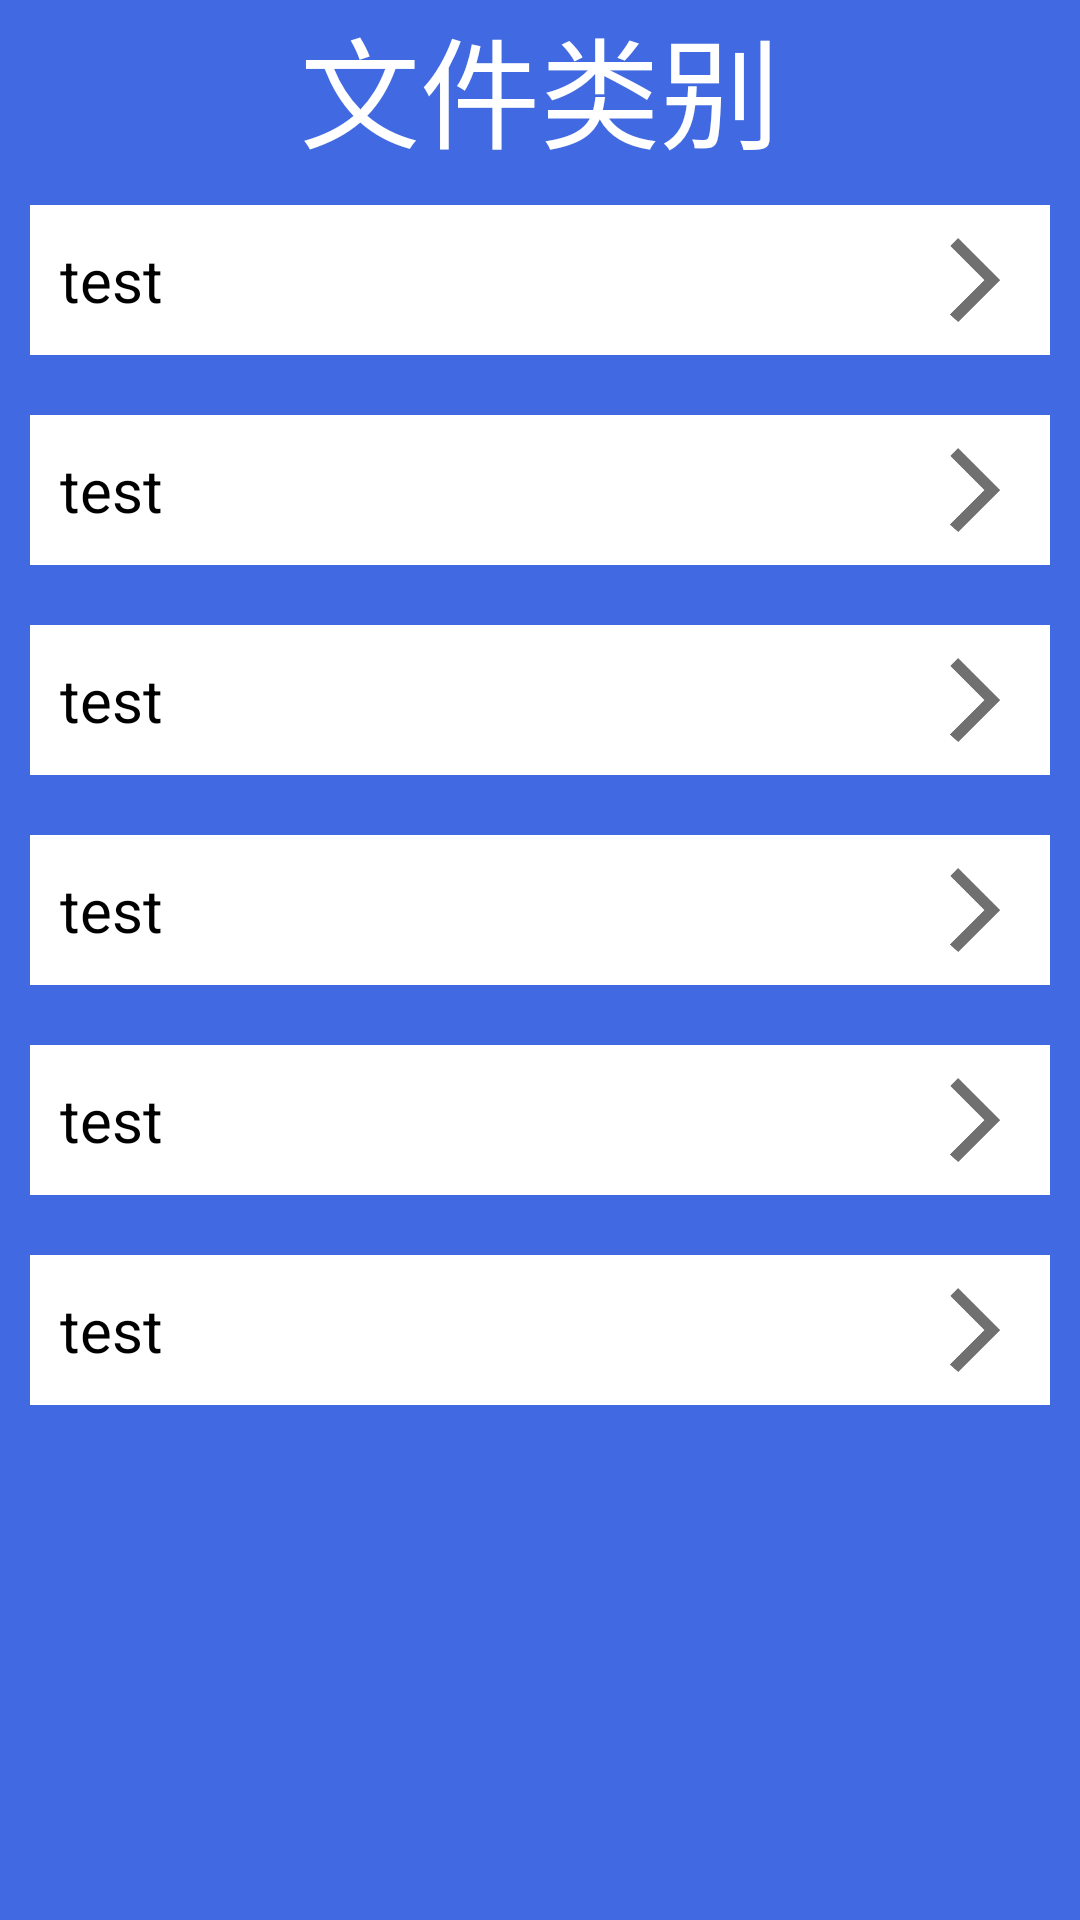

Icons on this 1080×1920 Android screen, each with its box as region(x1, y1, x2, y2):
arrow right: region(950, 238, 1000, 322), region(950, 448, 1000, 532), region(950, 658, 1000, 742), region(950, 868, 1000, 952), region(950, 1078, 1000, 1162), region(950, 1288, 1000, 1372)
